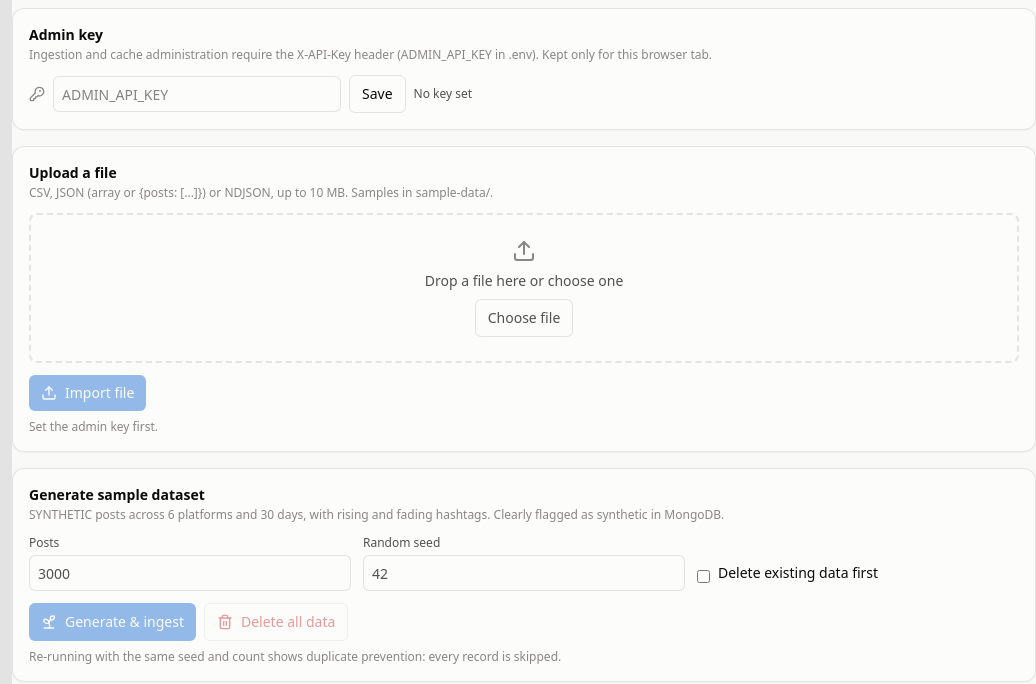
Test: DataPage › requires the admin key before importing and sends it as X-API-Key
The width and height of the screenshot is (1036, 684).
Expected: the button "Generate & ingest" is disabled, [29,603,196,641]
Type "secret-key-123" into the password field named "Admin API key" at (197, 94), box [53,76,341,112]
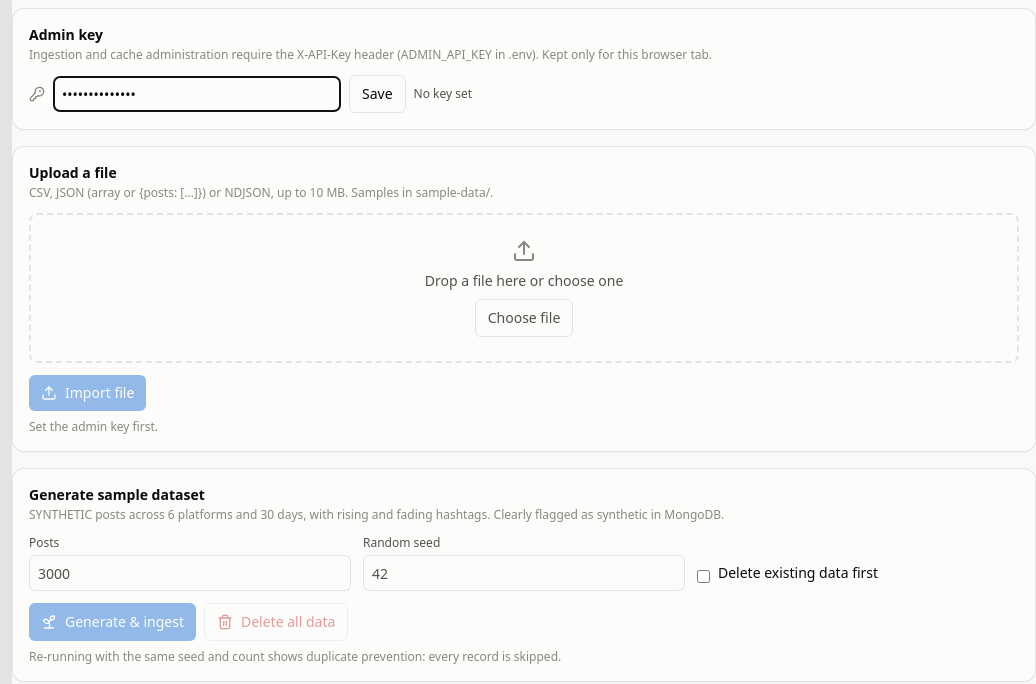
Click the button "Save" at (377, 94), box [349,75,406,113]
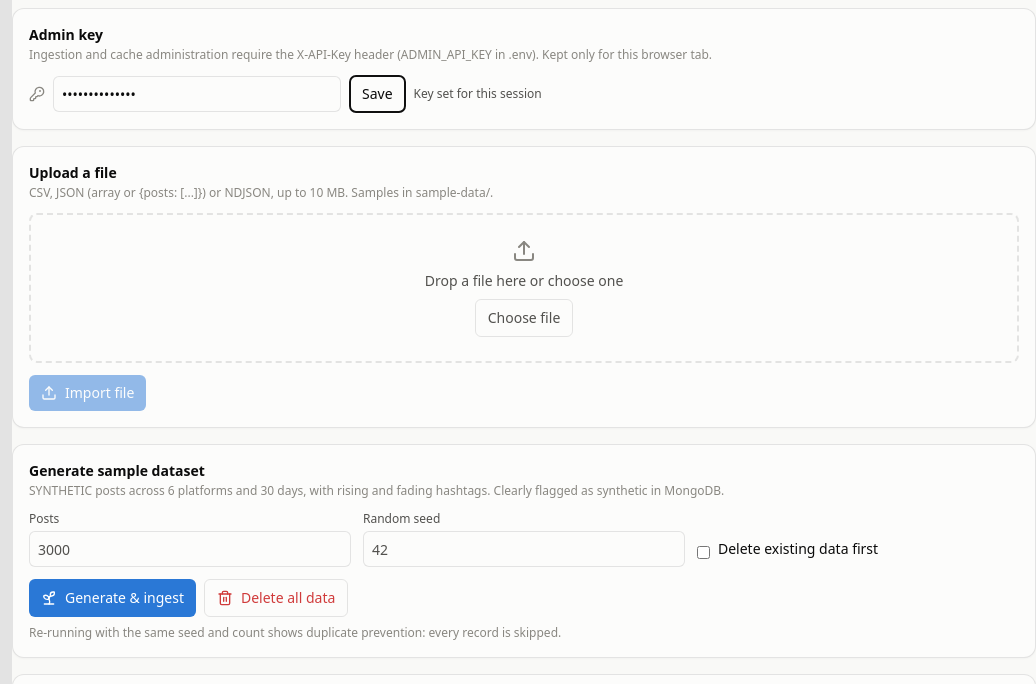
Expected: the button "Generate & ingest" is enabled
Click the button "Generate & ingest" at (112, 598), box [29,579,196,617]
(page scrolled)
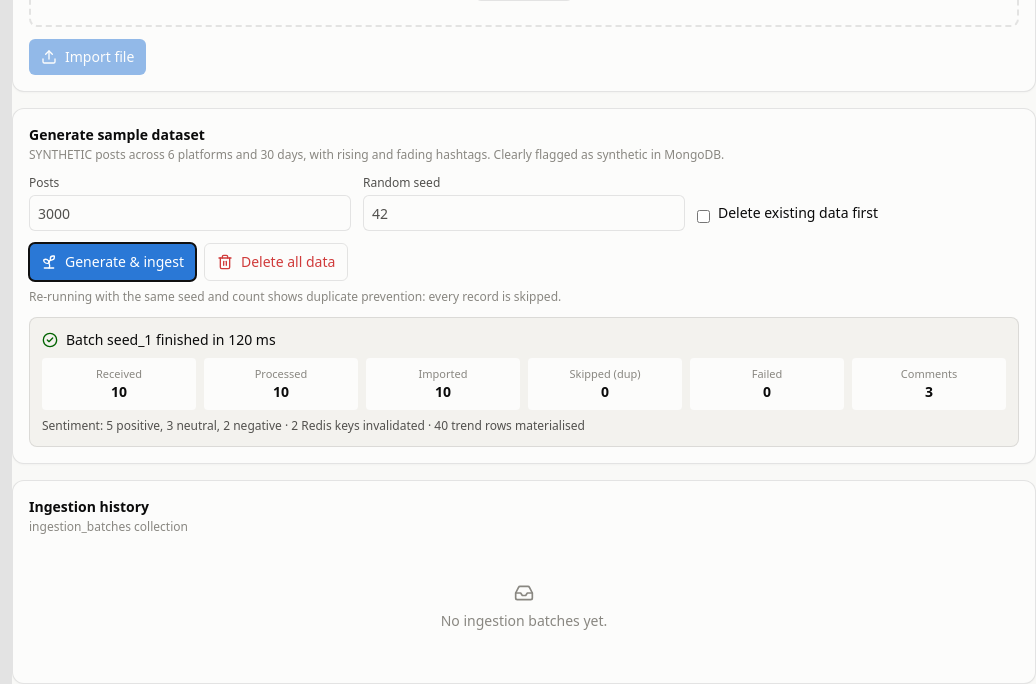
Expected: the text "Batch seed_1 finished in 120 ms" is shown, [42,330,276,349]
Expected: the text "2 Redis keys invalidated" is shown, [42,417,585,434]
